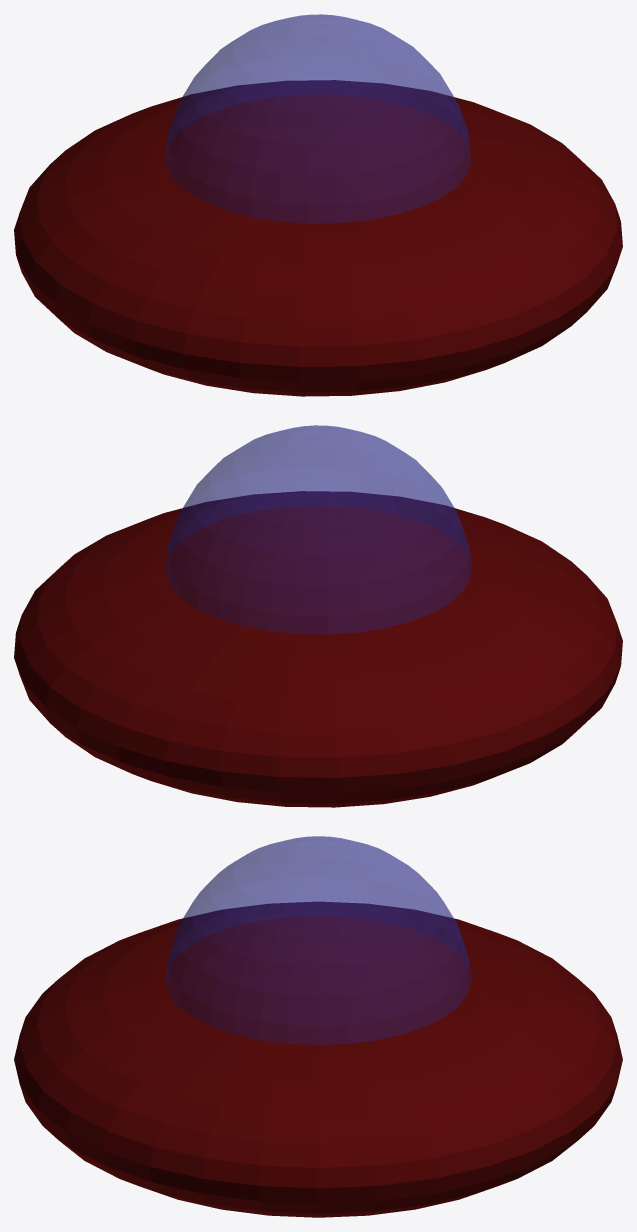
File: UFO.dae
3 views of the same model, one above another, from view 1: azimuth 30°, elevation 25°; view 2: azimuth 150°, elevation 25°; view 3: azimuth 270°, elevation 25° (orthographic).
Visible parts, largest first — view 1: Sphere, Sphere_001; view 2: Sphere, Sphere_001; view 3: Sphere, Sphere_001.
Part boxes in pixels (bbox=[...]): Sphere: bbox=[14, 80, 622, 396]; Sphere_001: bbox=[165, 14, 470, 223]; Sphere: bbox=[14, 491, 622, 807]; Sphere_001: bbox=[166, 425, 471, 634]; Sphere: bbox=[14, 902, 622, 1217]; Sphere_001: bbox=[165, 836, 471, 1044].
Size of the model in its own units: 2.29 by 1.25 by 2.29.
